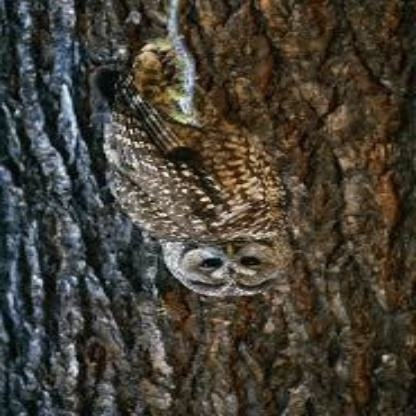Owl: (112, 61, 287, 292)
